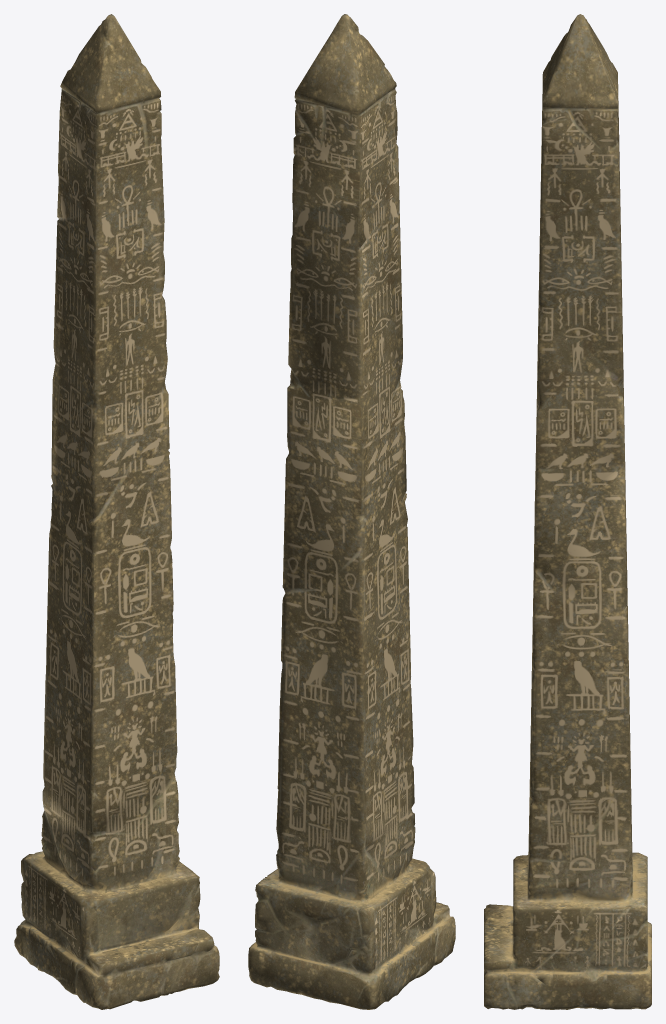
Rendered from obelisk.fbx.
3 renders of one model, left to right at view 1: azimuth 30°, elevation 25°; view 2: azimuth 150°, elevation 25°; view 3: azimuth 270°, elevation 25°, orthographic.
Parts seen in each view (by area): view 1: T1_Obelisk; view 2: T1_Obelisk; view 3: T1_Obelisk.
Boxes of the visible parts, left/top/right/bottom form: T1_Obelisk: left=14, top=14, right=219, bottom=1009; T1_Obelisk: left=248, top=14, right=455, bottom=1009; T1_Obelisk: left=484, top=14, right=651, bottom=1009.
Bounding box in the file's own units: 239 × 1743 × 275.
Materials: 1 (1 with a texture image).
